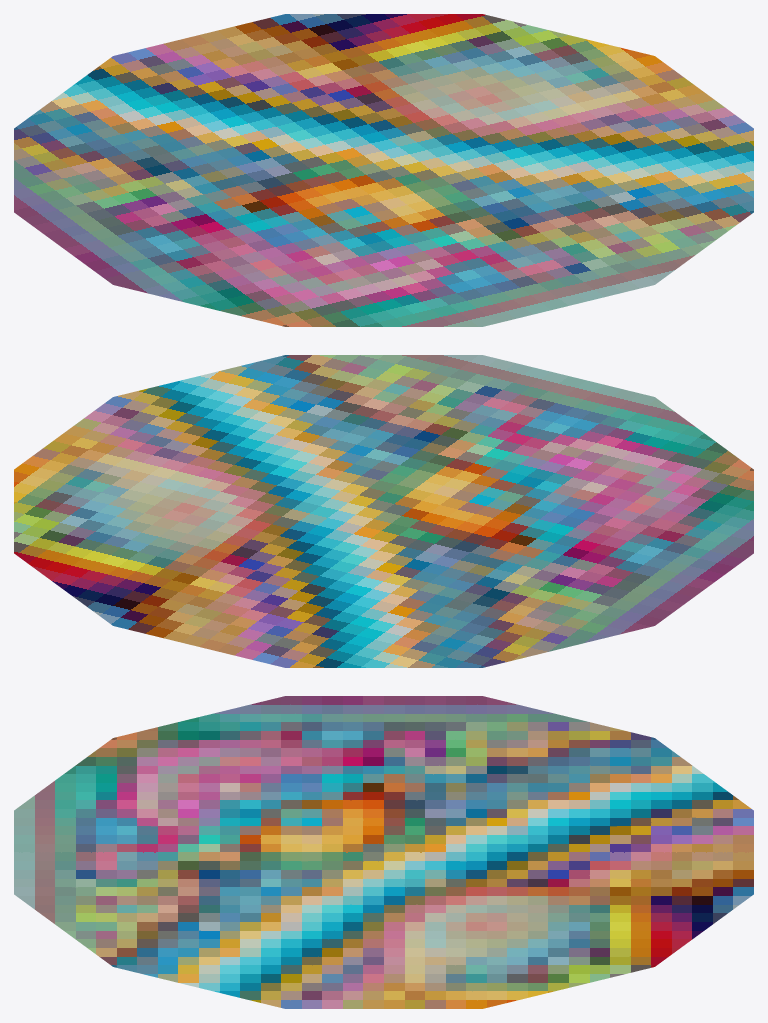
Rendered from mod_carpet.gltf.
3 renders of one model, top to bottom at view 1: azimuth 30°, elevation 25°; view 2: azimuth 150°, elevation 25°; view 3: azimuth 270°, elevation 25°, orthographic.
Visible parts, largest first — view 1: cylinder; view 2: cylinder; view 3: cylinder.
Boxes of the visible parts, x1,y1,x2,y2 form: cylinder: [14, 14, 753, 326]; cylinder: [14, 355, 753, 667]; cylinder: [14, 696, 753, 1008].
Size of the model in its own units: 2.25 by 0 by 2.25.
1 material, 1 textured.
